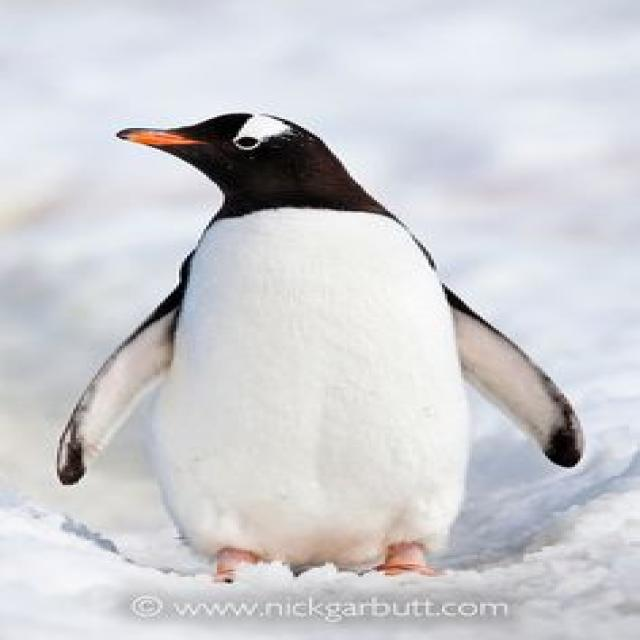Carnivorous: (57, 112, 583, 582)
